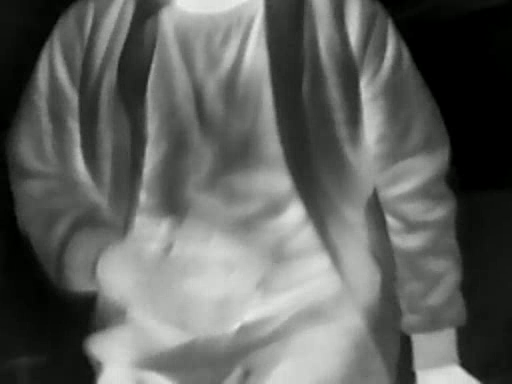chest: (78, 3, 361, 250)
